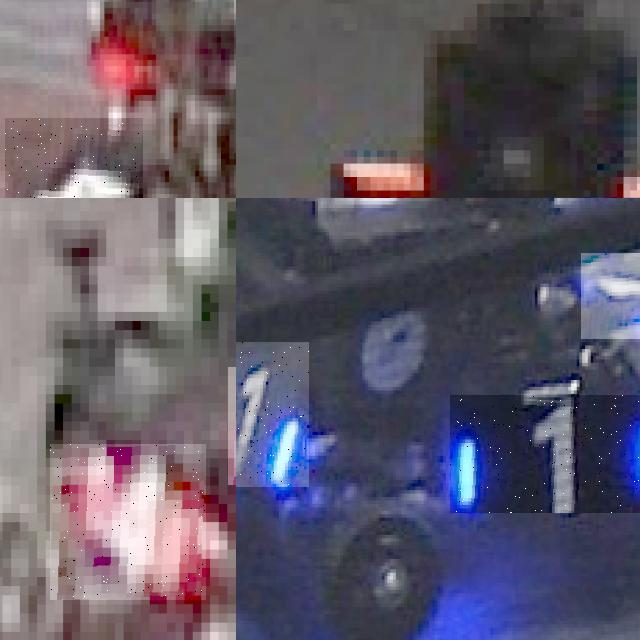B1: (449, 395, 640, 512), (236, 342, 309, 486), (580, 253, 640, 339)
R4: (50, 444, 206, 600), (4, 118, 143, 198)
